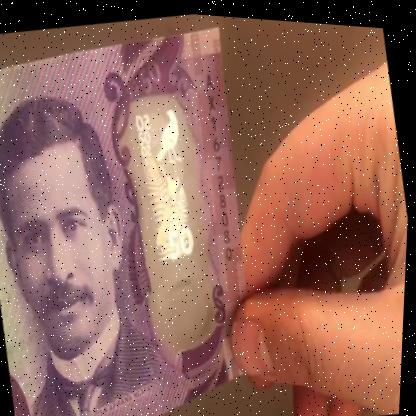50F: (121, 97, 222, 329)
